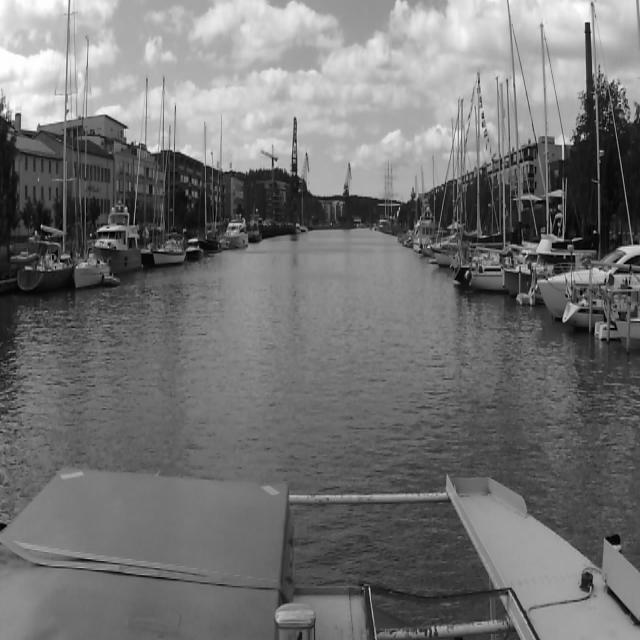ship: (457, 0, 554, 290), (14, 0, 72, 300), (448, 68, 492, 286), (537, 246, 640, 326), (74, 35, 100, 289), (152, 76, 185, 270), (89, 204, 147, 276), (375, 163, 399, 220), (227, 214, 249, 250), (185, 238, 203, 262), (100, 269, 122, 288)
